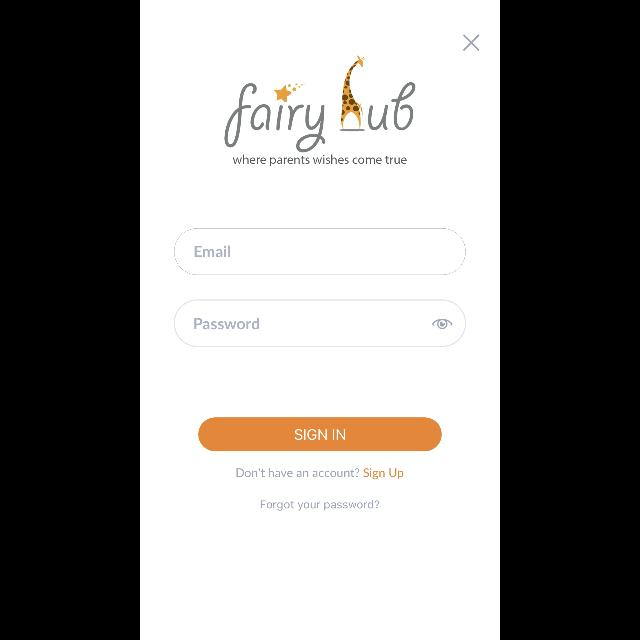icon: (463, 35, 479, 51), (432, 319, 452, 329)
image: (224, 56, 416, 152)
input: (174, 228, 466, 276), (174, 299, 466, 346)
text: (234, 155, 406, 167), (236, 468, 360, 478), (261, 500, 379, 510), (194, 317, 260, 329), (363, 468, 403, 479), (194, 245, 230, 257)
textbutton: (198, 417, 442, 451)
